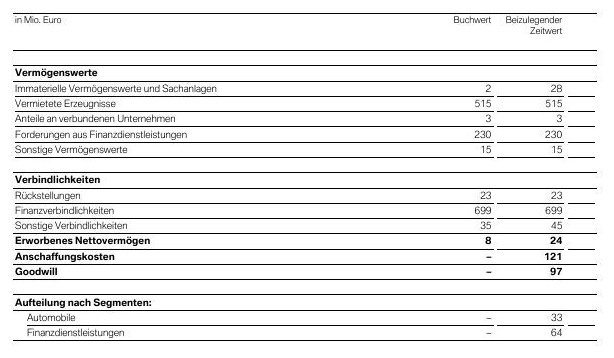table: (0, 0, 614, 358)
